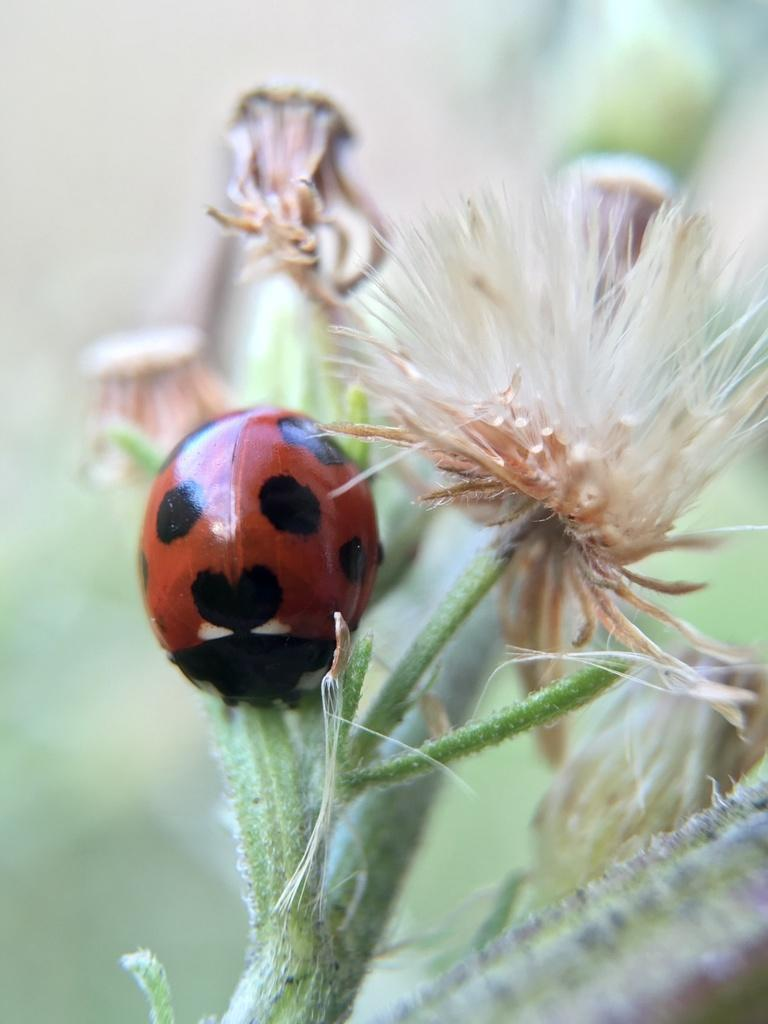ladybug: (136, 404, 391, 716)
